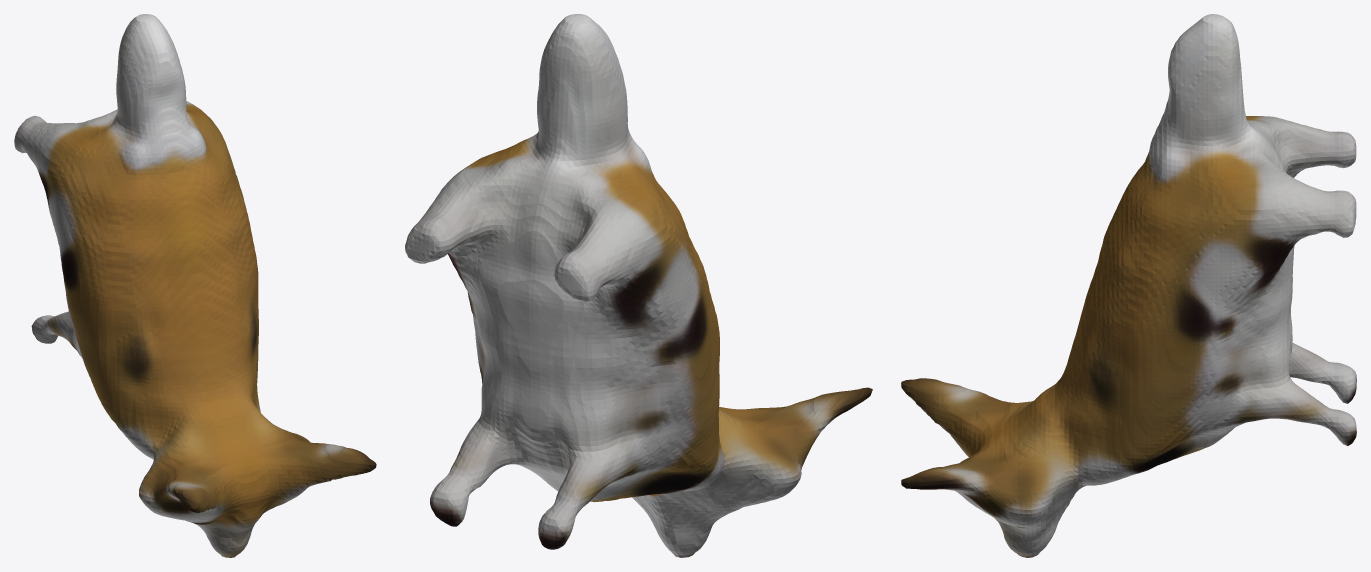
File: a_corgi_source.glb
3 views of the same model, side by side, from view 1: azimuth 30°, elevation 25°; view 2: azimuth 150°, elevation 25°; view 3: azimuth 270°, elevation 25° (orthographic). The views are drawn at different scales.
Parts seen in each view (by area): view 1: 0.ply; view 2: 0.ply; view 3: 0.ply.
Part boxes in pixels (<box>): 0.ply: <box>14,14,376,557</box>; 0.ply: <box>405,14,872,557</box>; 0.ply: <box>901,14,1356,557</box>.
Bounding box in the file's own units: 0.8023 × 1.98 × 1.52.
